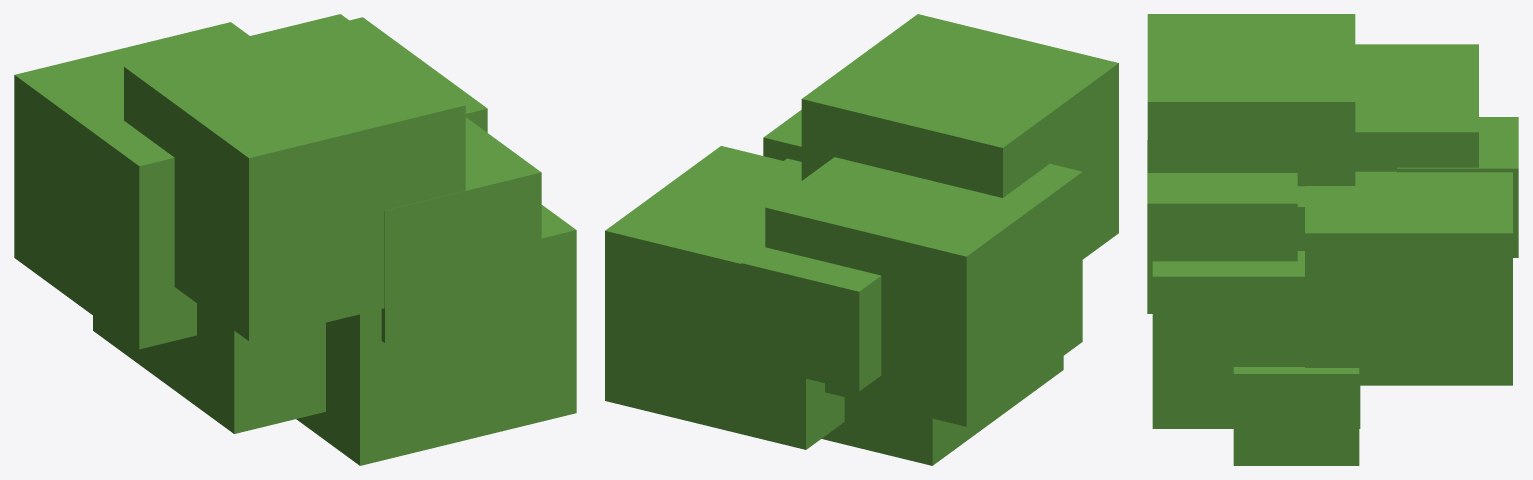
File: Bush1.fbx
3 renders of one model, left to right at view 1: azimuth 30°, elevation 25°; view 2: azimuth 150°, elevation 25°; view 3: azimuth 270°, elevation 25°, orthographic. The views are drawn at different scales.
Parts seen in each view (by area): view 1: Cube.011; view 2: Cube.011; view 3: Cube.011.
Part boxes in pixels (left/top/right/bottom): Cube.011: left=14, top=14, right=576, bottom=465; Cube.011: left=605, top=14, right=1118, bottom=465; Cube.011: left=1147, top=14, right=1518, bottom=465.
Bounding box in the file's own units: 3.14 × 2.92 × 3.16.
